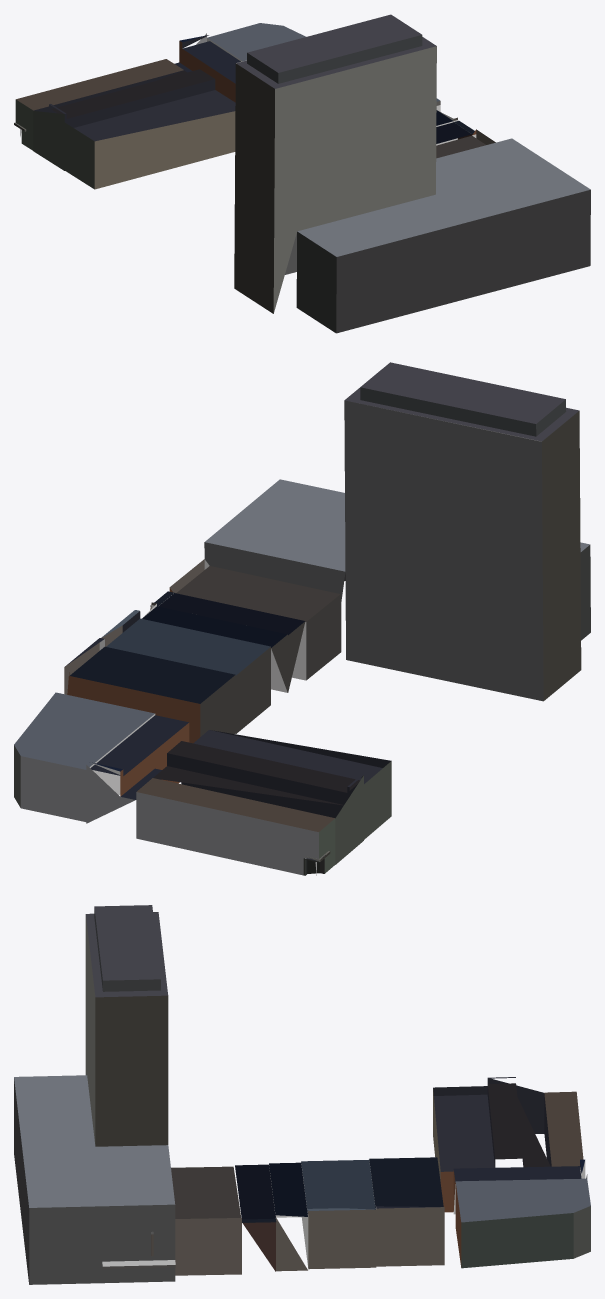
The model's file is 700-cherry-street.glb.
3 renders of one model, top to bottom at view 1: azimuth 30°, elevation 25°; view 2: azimuth 150°, elevation 25°; view 3: azimuth 270°, elevation 25°, orthographic. The views are drawn at different scales.
Parts seen in each view (by area): view 1: LOD0; view 2: LOD0; view 3: LOD0.
Part boxes in pixels (<box>): LOD0: <box>14,14,590,333</box>; LOD0: <box>14,362,590,875</box>; LOD0: <box>14,905,590,1284</box>.
Size of what is drawn, in the model's own units: 83.05 by 60.43 by 131.
2 materials, 2 textured.
